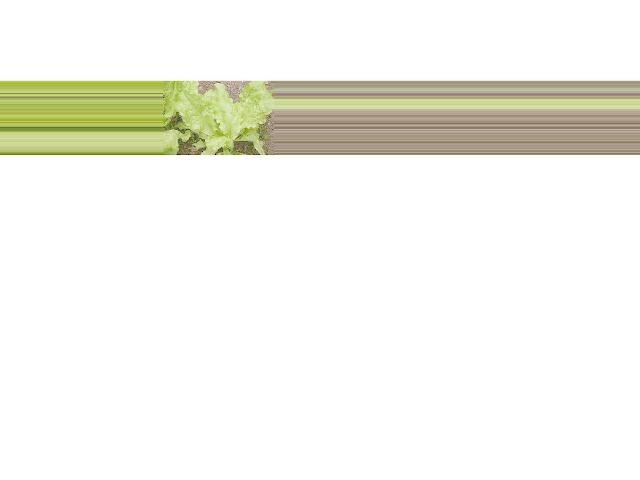lettuce: (162, 84, 273, 160)
